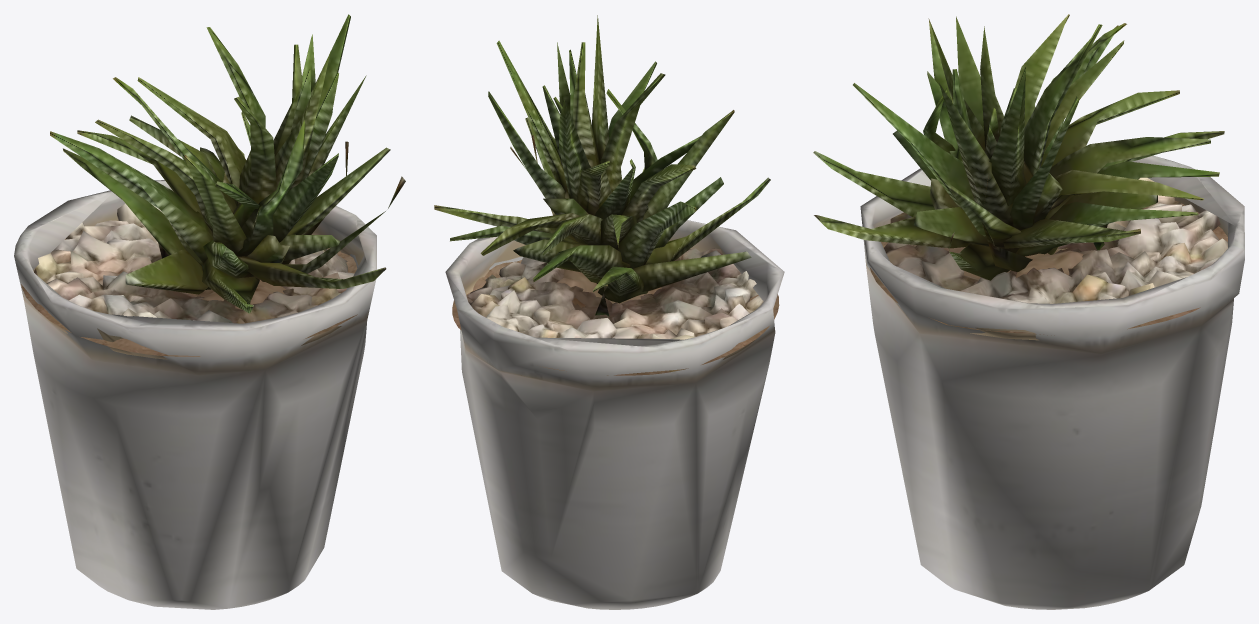
Rendered from potted_plant_04.glb.
The picture shows the model from 3 angles, left to right: view 1: azimuth 30°, elevation 25°; view 2: azimuth 150°, elevation 25°; view 3: azimuth 270°, elevation 25°; orthographic projection. The views are drawn at different scales.
Visible parts, largest first — view 1: potted_plant_04_pot, potted_plant_04_plant, potted_plant_04_ground, potted_plant_04_dirt; view 2: potted_plant_04_pot, potted_plant_04_plant, potted_plant_04_ground, potted_plant_04_dirt; view 3: potted_plant_04_pot, potted_plant_04_plant, potted_plant_04_ground, potted_plant_04_dirt.
Part boxes in pixels (x1,y1,x2,y2): potted_plant_04_pot: [14, 180, 376, 609]; potted_plant_04_plant: [50, 14, 405, 313]; potted_plant_04_ground: [35, 203, 354, 323]; potted_plant_04_dirt: [21, 238, 357, 356]; potted_plant_04_pot: [445, 220, 784, 609]; potted_plant_04_plant: [434, 15, 770, 316]; potted_plant_04_ground: [467, 248, 763, 339]; potted_plant_04_dirt: [452, 260, 779, 375]; potted_plant_04_pot: [860, 155, 1244, 609]; potted_plant_04_plant: [813, 14, 1224, 280]; potted_plant_04_ground: [884, 177, 1227, 303]; potted_plant_04_dirt: [869, 200, 1227, 335].
Size of the model in its own units: 0.1665 by 0.2672 by 0.1813.
Materials: 1 (1 with a texture image).
